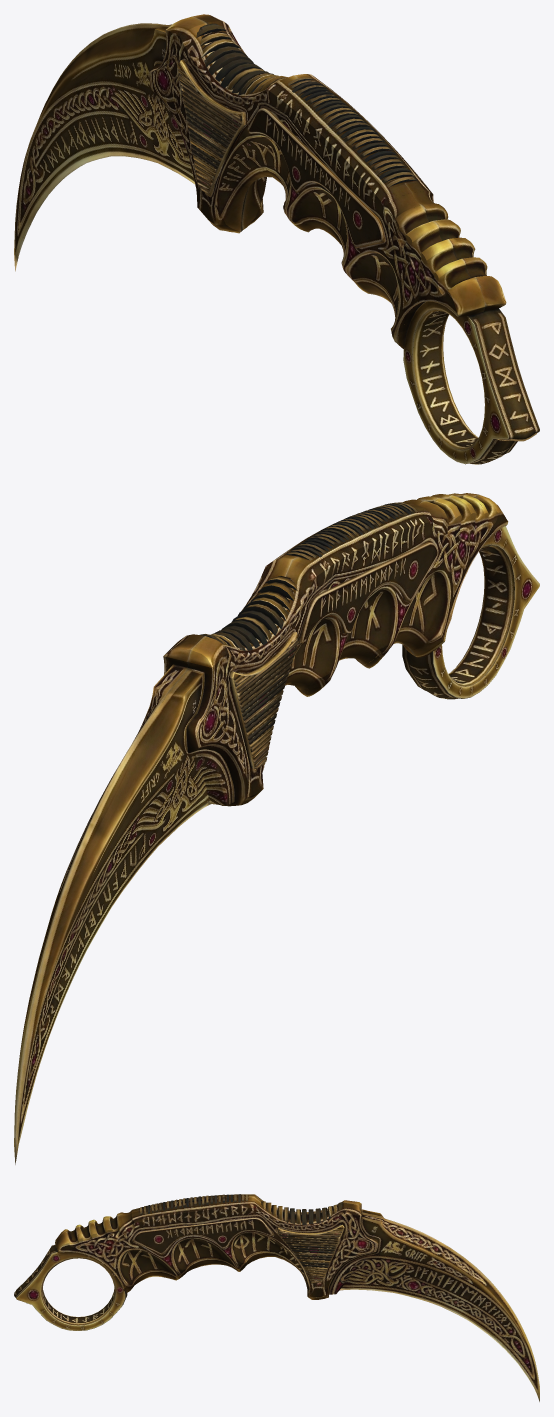
The model's file is knife_karambitgold.glb.
3 renders of one model, top to bottom at view 1: azimuth 30°, elevation 25°; view 2: azimuth 150°, elevation 25°; view 3: azimuth 270°, elevation 25°, orthographic. The views are drawn at different scales.
Visible parts, largest first — view 1: Object_2; view 2: Object_2; view 3: Object_2.
Part boxes in pixels (box(x1,y1,x2,y2)): Object_2: box(14, 14, 539, 464); Object_2: box(14, 493, 539, 1164); Object_2: box(14, 1194, 539, 1401).
Size of the model in its own units: 0.0152 by 0.1022 by 0.235.
1 material, 1 textured.
